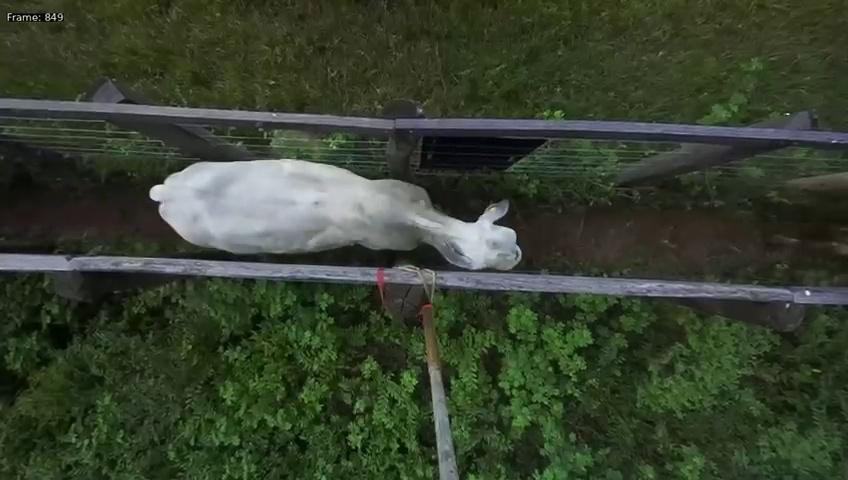cattle: (147, 125, 523, 269)
